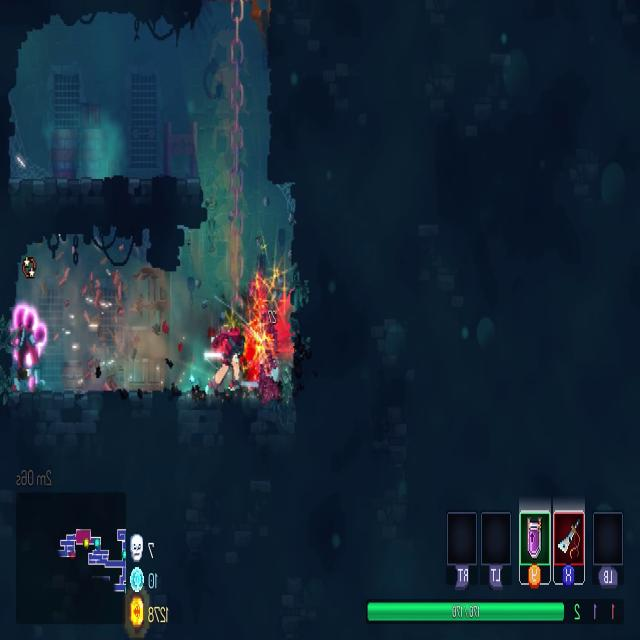agents: (206, 310, 244, 390)
enemy_purple_big: (8, 304, 49, 396)
